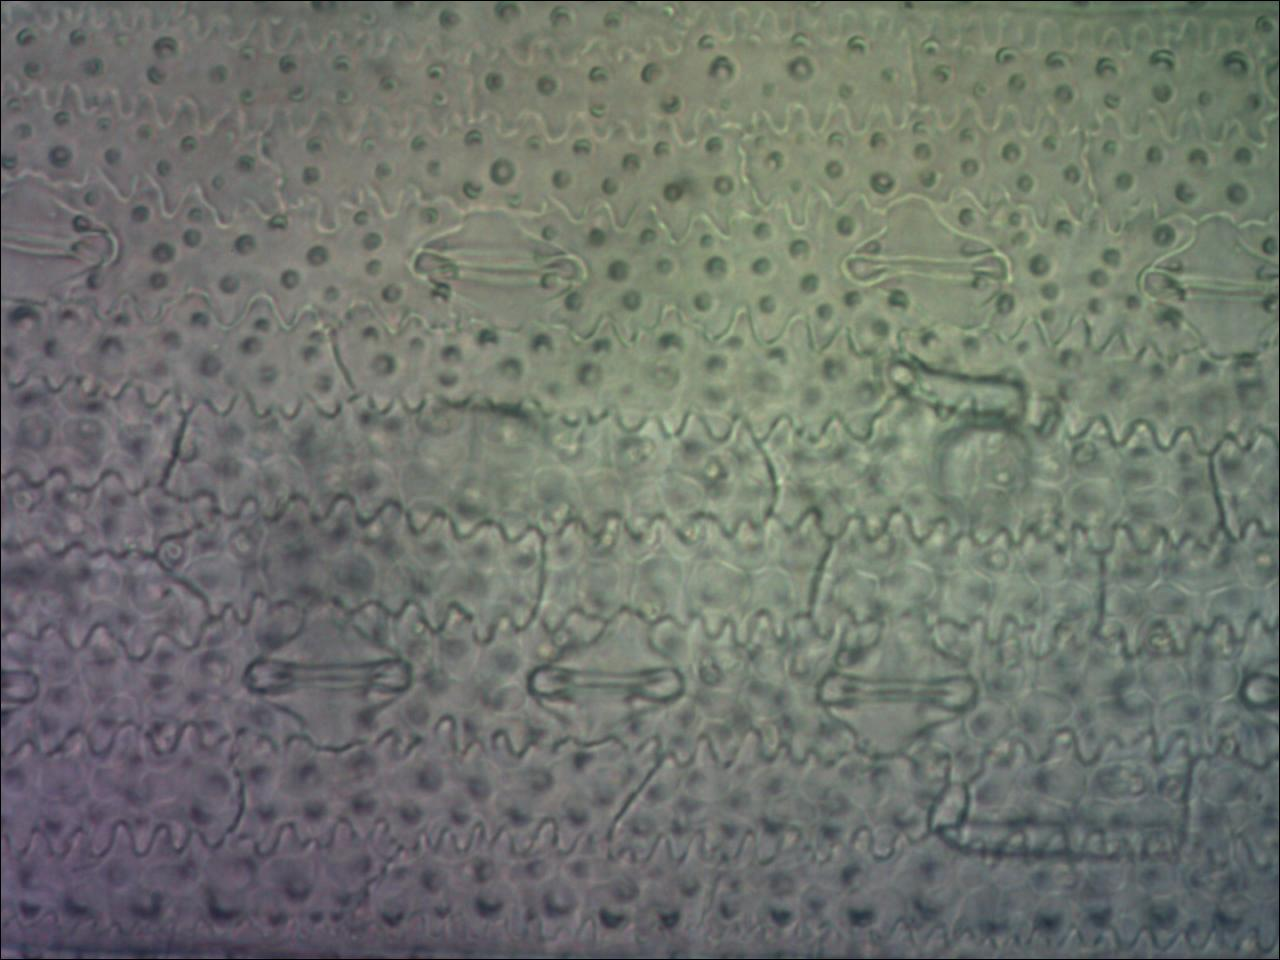stoma: (240, 595, 410, 758), (834, 200, 1017, 333), (525, 610, 691, 755), (817, 623, 991, 760), (402, 209, 589, 333), (1136, 219, 1280, 349), (1, 174, 121, 306), (1241, 632, 1280, 725), (1, 635, 40, 726)
